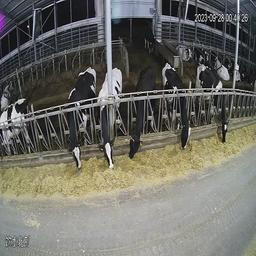cow: (60, 59, 97, 180), (195, 57, 231, 155), (127, 56, 156, 173), (162, 61, 194, 162), (98, 63, 123, 177), (214, 52, 230, 84), (143, 23, 158, 53), (178, 38, 194, 65)
